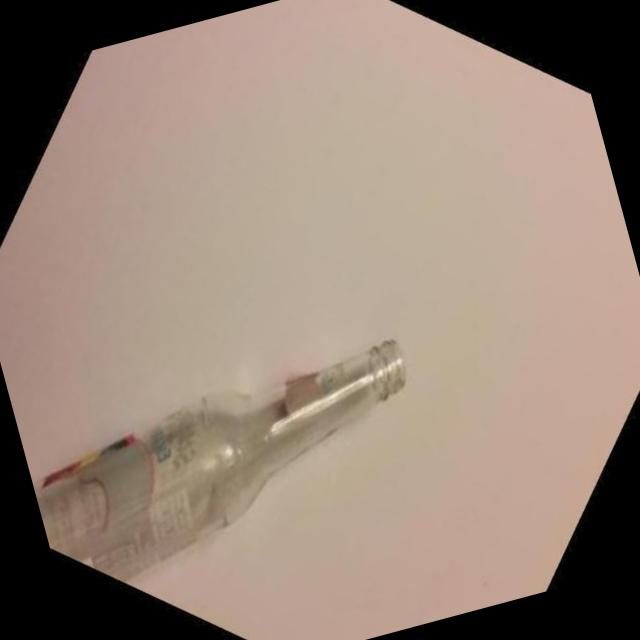BotolKaca: (21, 334, 444, 600)
